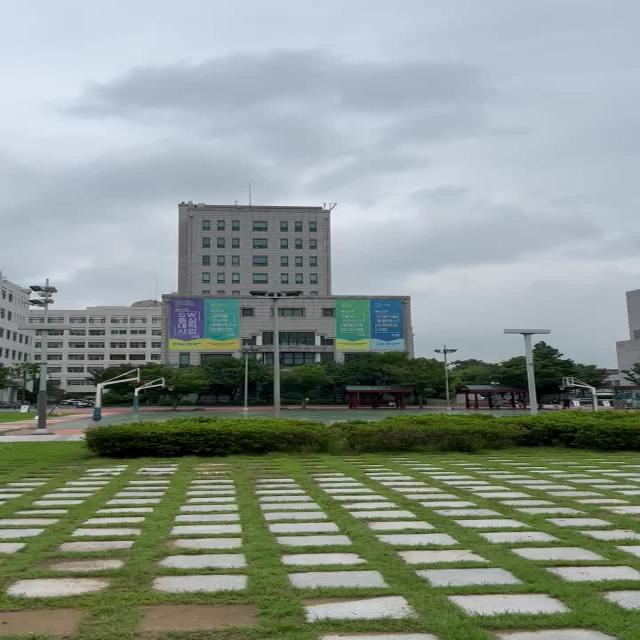building: (174, 199, 329, 295)
